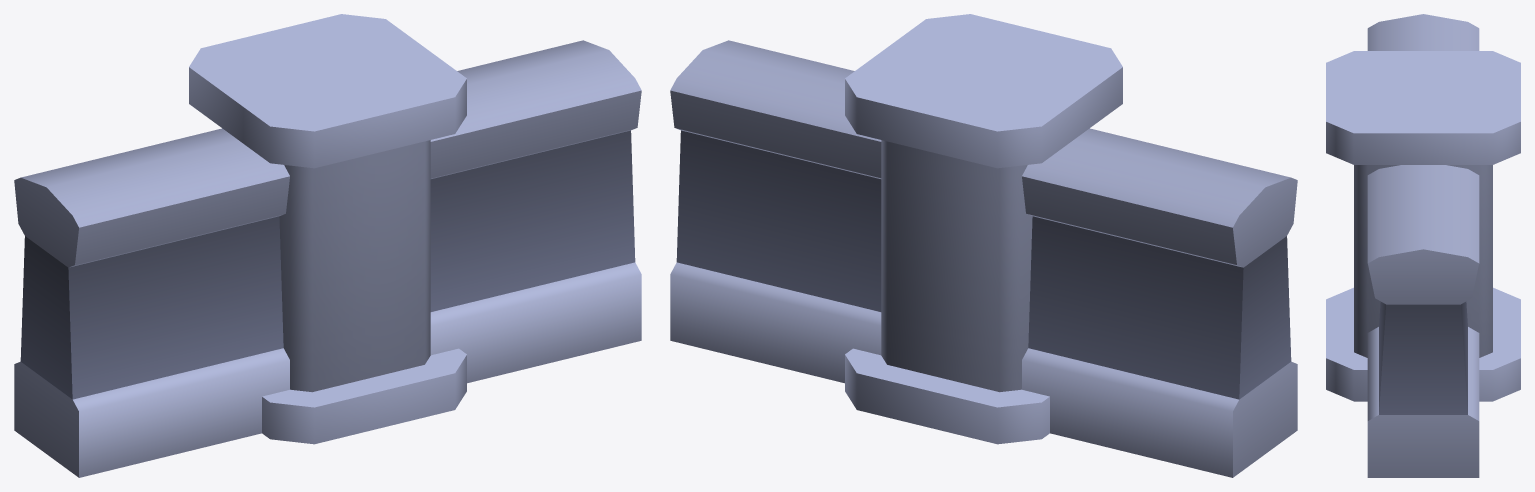
Rendered from stone-wall-column.003_lev1.glb.
The picture shows the model from 3 angles, left to right: view 1: azimuth 30°, elevation 25°; view 2: azimuth 150°, elevation 25°; view 3: azimuth 270°, elevation 25°; orthographic projection. The views are drawn at different scales.
Parts seen in each view (by area): view 1: stone-wall-column.003_lev1; view 2: stone-wall-column.003_lev1; view 3: stone-wall-column.003_lev1.
Part boxes in pixels (x1,y1,x2,y2): stone-wall-column.003_lev1: (14, 14, 641, 477); stone-wall-column.003_lev1: (670, 14, 1297, 477); stone-wall-column.003_lev1: (1326, 14, 1520, 477).
Size of the model in its own units: 2 by 1.06 by 0.7.
Materials: 1 (1 with a texture image).
